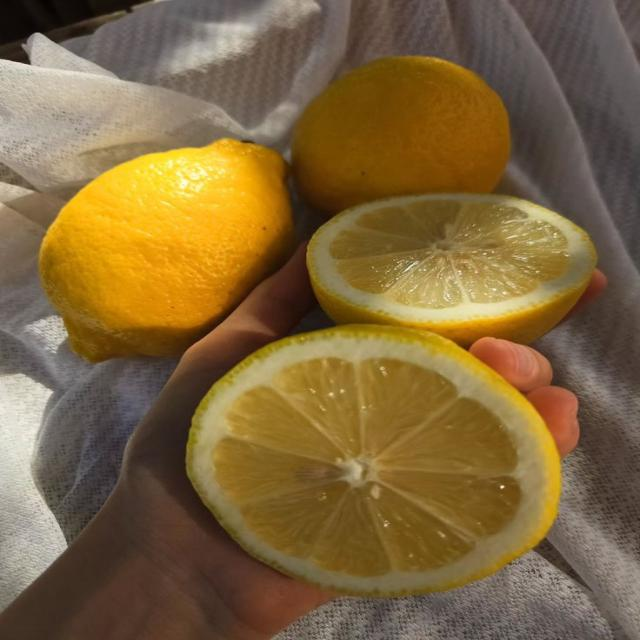lemon: (187, 325, 559, 595), (40, 139, 293, 361), (308, 194, 596, 345), (293, 57, 510, 212)
